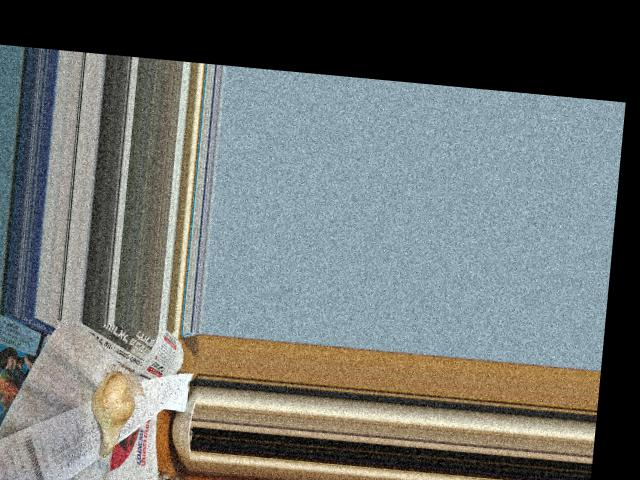onion: (86, 372, 135, 454)
